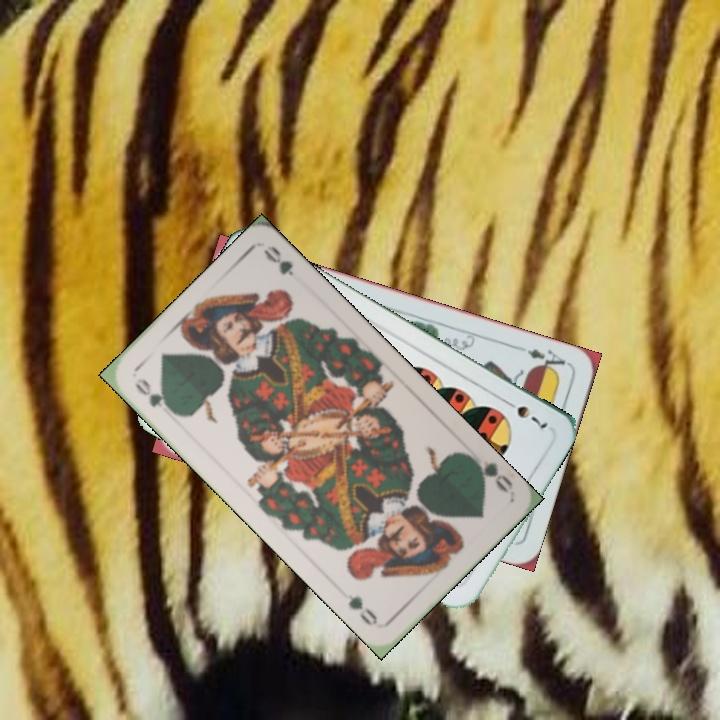EA: (523, 344, 568, 375)
GO: (466, 451, 516, 496), (130, 373, 178, 418)
S7: (499, 395, 553, 433)
